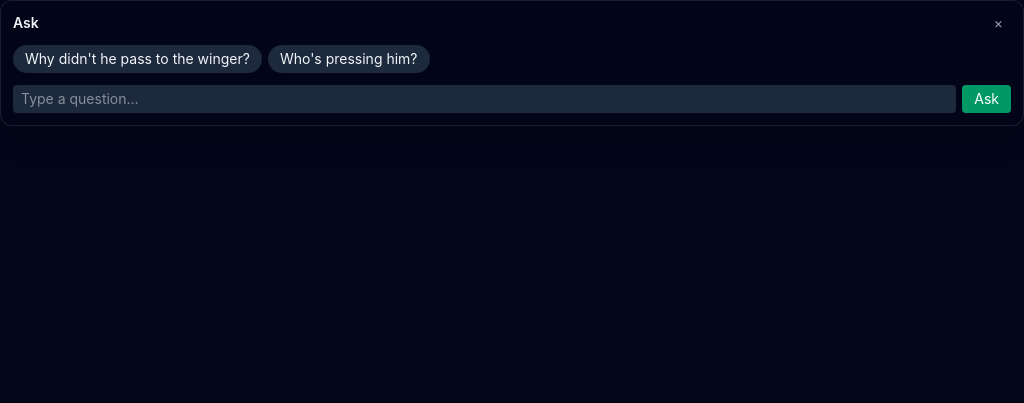
Test: the Ask panel › does not repeat the verdict when the headline already says it
This screenshot has width=1024, height=403.
Click the button "Who's pressing him?" at (349, 59), box [268,45,430,73]
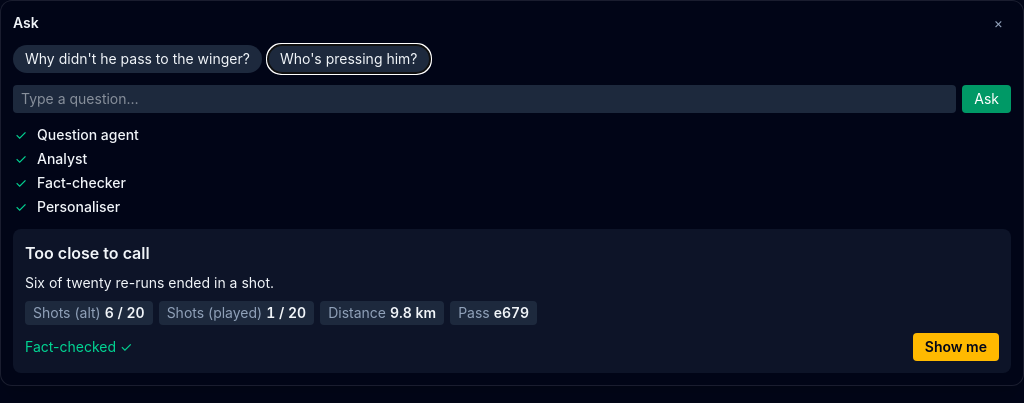
Result: the number of headings "Too close to call" is 1 at [25,243,150,263]
